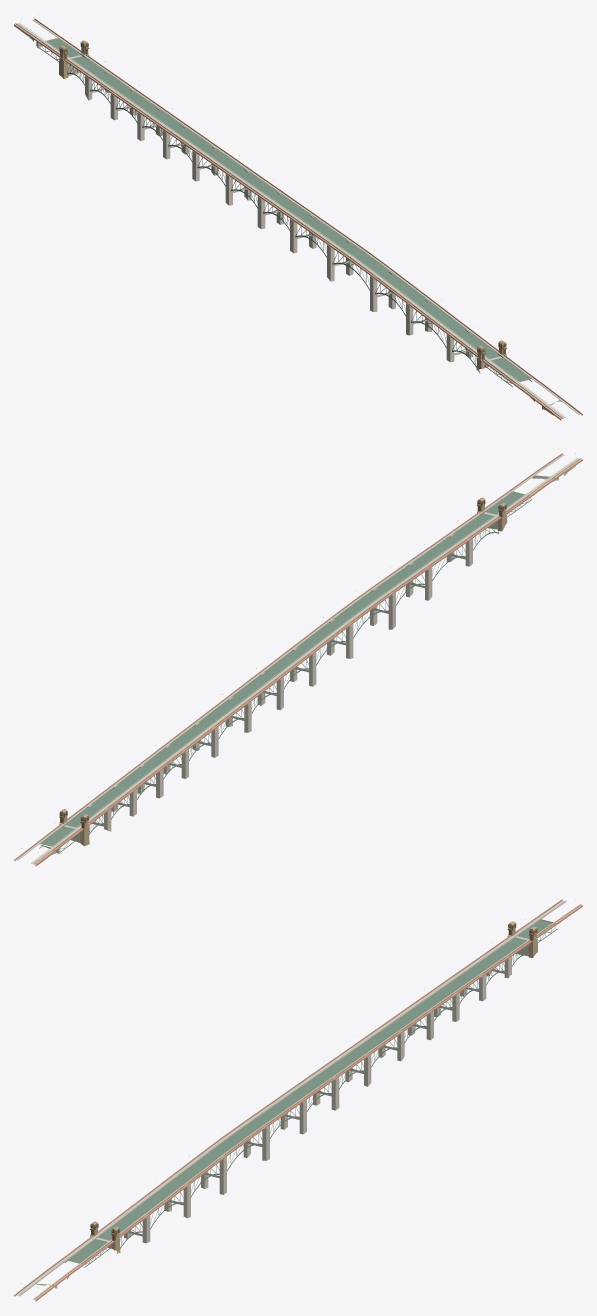
Rendered from cle-hope-memorial-bridge.glb.
3 renders of one model, top to bottom at view 1: azimuth 30°, elevation 25°; view 2: azimuth 150°, elevation 25°; view 3: azimuth 330°, elevation 25°, orthographic.
Parts seen in each view (by area): view 1: Hope Memorial Bridge; view 2: Hope Memorial Bridge; view 3: Hope Memorial Bridge.
Part boxes in pixels (left/top/right/bottom): Hope Memorial Bridge: left=14, top=14, right=582, bottom=420; Hope Memorial Bridge: left=14, top=449, right=582, bottom=866; Hope Memorial Bridge: left=14, top=895, right=582, bottom=1301.
Bounding box in the file's own units: 31.8 × 53.2 × 1152.
